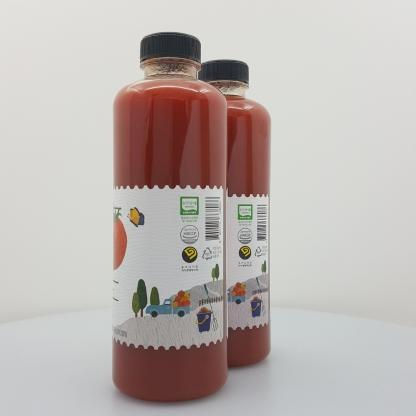-------------------900ML: (112, 31, 229, 403), (179, 59, 271, 368)
